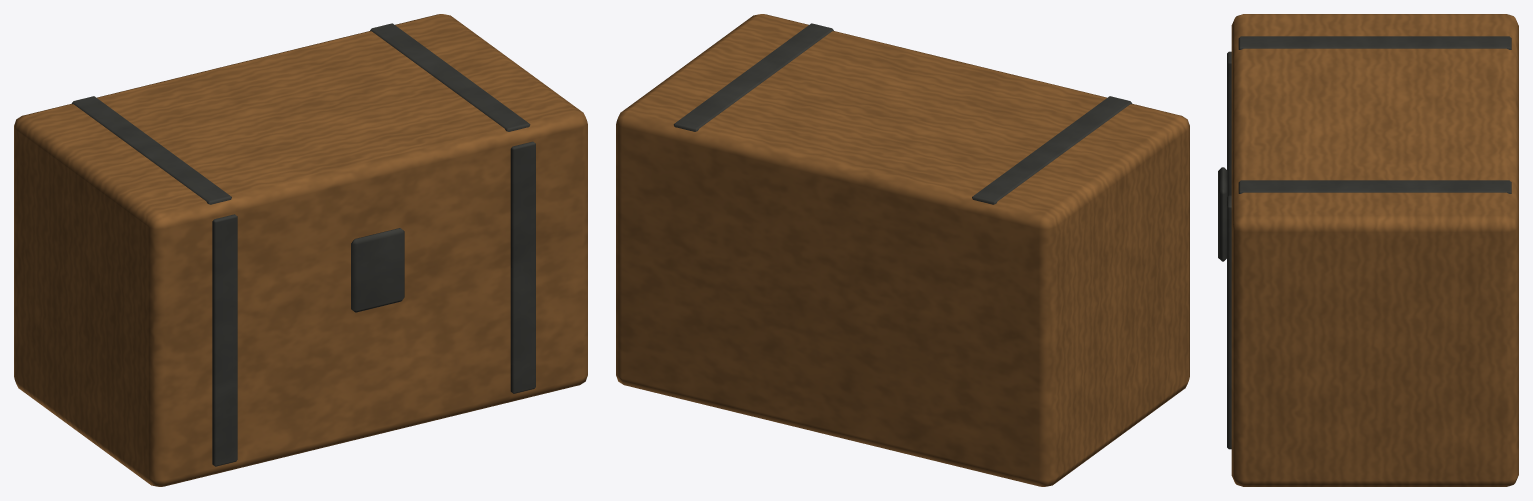
The model's file is Furn_GearChest.fbx.
3 views of the same model, side by side, from view 1: azimuth 30°, elevation 25°; view 2: azimuth 150°, elevation 25°; view 3: azimuth 270°, elevation 25° (orthographic).
Parts seen in each view (by area): view 1: Furn_GearChest_Mesh; view 2: Furn_GearChest_Mesh; view 3: Furn_GearChest_Mesh.
Boxes of the visible parts, bbox=[...] form: Furn_GearChest_Mesh: bbox=[14, 14, 587, 486]; Furn_GearChest_Mesh: bbox=[616, 14, 1189, 486]; Furn_GearChest_Mesh: bbox=[1218, 14, 1518, 486].
Bounding box in the file's own units: 1 × 0.6 × 0.6.
Materials: 2 (2 with a texture image).
